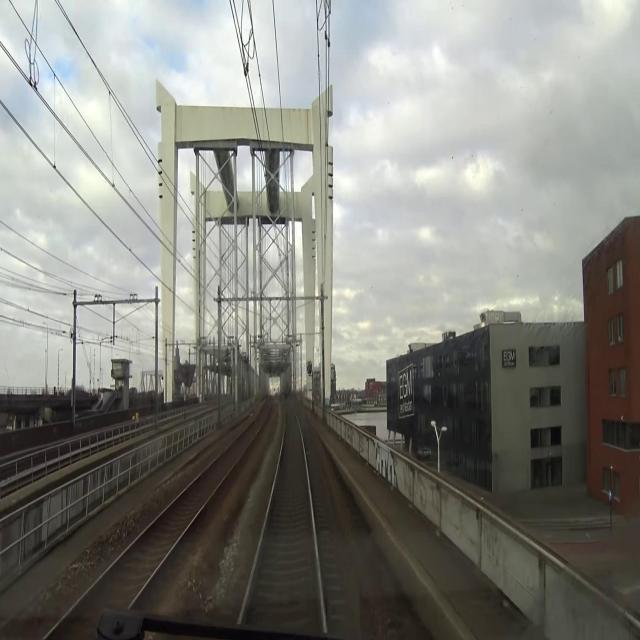rail-track: (49, 403, 268, 639), (243, 404, 322, 629)
